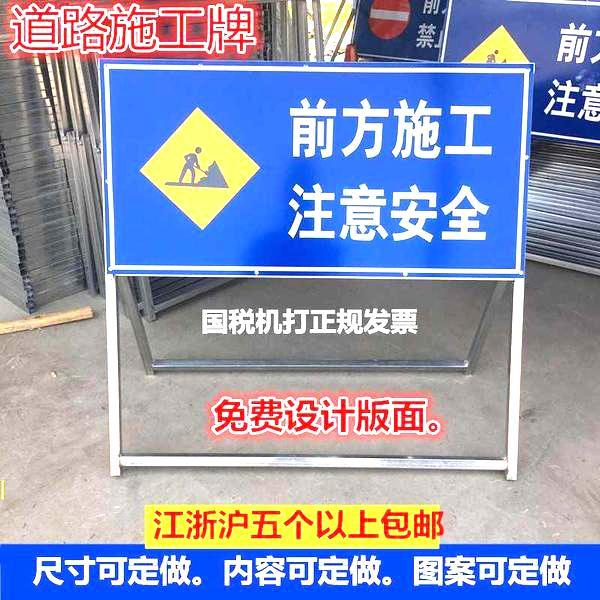sign: (97, 59, 523, 278)
